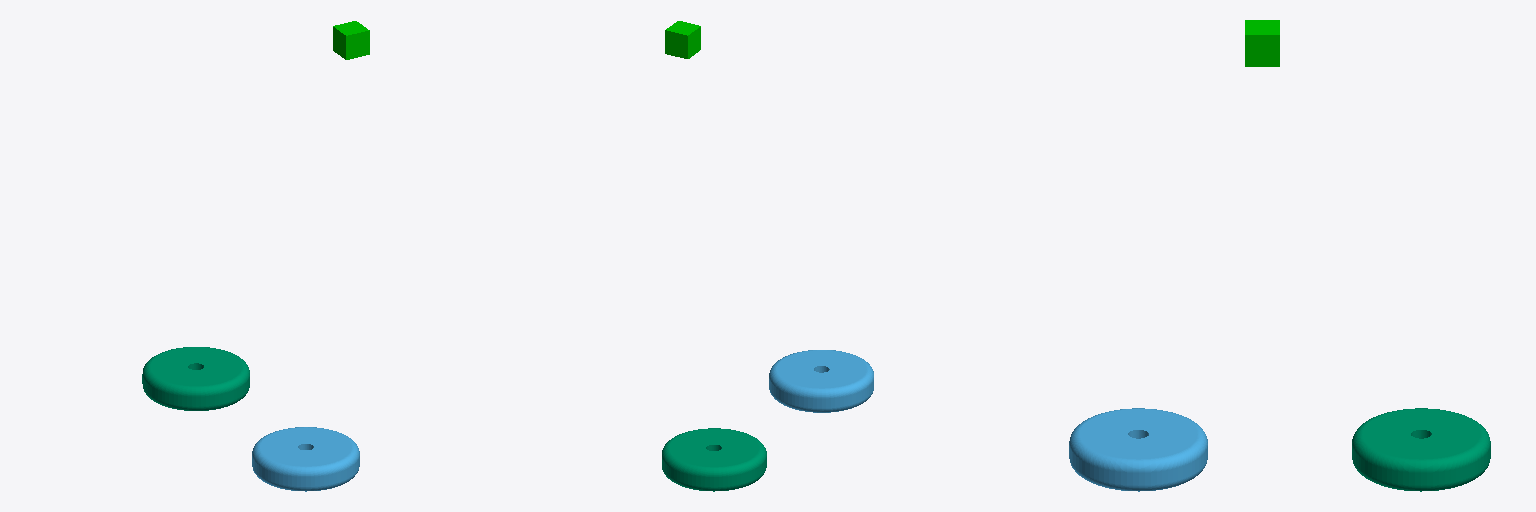
The robot description file, URDF, robot "myrobot":
<?xml version="1.0" ?>
<!-- =================================================================================== -->
<!-- |    This document was autogenerated by xacro from mybot.xacro                    | -->
<!-- |    EDITING THIS FILE BY HAND IS NOT RECOMMENDED                                 | -->
<!-- =================================================================================== -->
<robot name="myrobot">
  <gazebo>
    <plugin filename="libgazebo_ros_diff_drive.so" name="differential_drive_controller">
      <legacyMode>false</legacyMode>
      <alwaysOn>true</alwaysOn>
      <updateRate>10</updateRate>
      <leftJoint>left_wheel_hinge</leftJoint>
      <rightJoint>right_wheel_hinge</rightJoint>
      <wheelSeparation>0.4</wheelSeparation>
      <wheelDiameter>0.2</wheelDiameter>
      <torque>10000</torque>
      <commandTopic>cmd_vel</commandTopic>
      <odometryTopic>odom</odometryTopic>
      <odometryFrame>odom</odometryFrame>
      <robotBaseFrame>chassis</robotBaseFrame>
      <rosDebugLevel>na</rosDebugLevel>
      <publishWheelTF>false</publishWheelTF>
      <publishOdomTF>true</publishOdomTF>
      <publishWheelJointState>false</publishWheelJointState>
      <wheelAcceleration>0</wheelAcceleration>
      <wheelTorque>5</wheelTorque>
      <odometrySource>world</odometrySource>
      <publishTf>1</publishTf>
    </plugin>
  </gazebo>
  <gazebo reference="chassis">
    <material>Gazebo/Orange</material>
  </gazebo>
  <gazebo reference="right_wheel">
    <material>Gazebo/FlatBlack</material>
  </gazebo>
  <gazebo reference="left_wheel">
    <material>Gazebo/FlatBlack</material>
  </gazebo>
  <gazebo reference="camera">
    <material>Gazebo/Green</material>
    <sensor name="camera1" type="camera">
      <update_rate>30.0</update_rate>
      <camera name="head">
        <horizontal_fov>1.3962634</horizontal_fov>
        <image>
          <width>800</width>
          <height>800</height>
          <format>R8G8B8</format>
        </image>
        <clip>
          <near>0.02</near>
          <far>300</far>
        </clip>
      </camera>
      <plugin filename="libgazebo_ros_camera.so" name="camera_controller">
        <alwaysOn>true</alwaysOn>
        <updateRate>0.0</updateRate>
        <cameraName>mybot/camera1</cameraName>
        <imageTopicName>image_raw</imageTopicName>
        <cameraInfoTopicName>camera_info</cameraInfoTopicName>
        <frameName>camera</frameName>
        <hackBaseline>0.07</hackBaseline>
        <distortionK1>0.0</distortionK1>
        <distortionK2>0.0</distortionK2>
        <distortionK3>0.0</distortionK3>
        <distortionT1>0.0</distortionT1>
        <distortionT2>0.0</distortionT2>
      </plugin>
    </sensor>
  </gazebo>
  <!-- hokuyo -->
  <gazebo reference="hokuyo">
    <sensor name="head_hokuyo_sensor" type="gpu_ray">
      <pose>0 0 0 0 0 0</pose>
      <visualize>true</visualize>
      <update_rate>40</update_rate>
      <ray>
        <scan>
          <horizontal>
            <samples>720</samples>
            <resolution>1</resolution>
            <min_angle>-1.570796</min_angle>
            <max_angle>1.570796</max_angle>
          </horizontal>
        </scan>
        <range>
          <min>0.10</min>
          <max>30.0</max>
          <resolution>0.01</resolution>
        </range>
        <noise>
          <type>gaussian</type>
          <!-- Noise parameters based on published spec for Hokuyo laser
               achieving "+-30mm" accuracy at range < 10m.  A mean of 0.0m and
               stddev of 0.01m will put 99.7% of samples within 0.03m of the true
               reading. -->
          <mean>0.0</mean>
          <stddev>0.01</stddev>
        </noise>
      </ray>
      <plugin filename="libgazebo_ros_gpu_laser.so" name="gazebo_ros_head_hokuyo_controller">
        <topicName>/mybot/laser/scan</topicName>
        <frameName>hokuyo</frameName>
      </plugin>
    </sensor>
  </gazebo>
  <material name="black">
    <color rgba="0.0 0.0 0.0 1.0"/>
  </material>
  <material name="blue">
    <color rgba="0.0 0.0 0.8 1.0"/>
  </material>
  <material name="green">
    <color rgba="0.0 0.8 0.0 1.0"/>
  </material>
  <material name="grey">
    <color rgba="0.2 0.2 0.2 1.0"/>
  </material>
  <material name="orange">
    <color rgba="1.0 0.4235294117647059 0.0392156862745098 1.0"/>
  </material>
  <material name="brown">
    <color rgba="0.8705882352941177 0.8117647058823529 0.7647058823529411 1.0"/>
  </material>
  <material name="red">
    <color rgba="0.8 0.0 0.0 1.0"/>
  </material>
  <material name="white">
    <color rgba="1.0 1.0 1.0 1.0"/>
  </material>
  <!--macro name="cylinder_inertia" params="m r h">
    <inertia  ixx="${m*(3*r*r+h*h)/12}" ixy = "0" ixz = "0"
      iyy="${m*(3*r*r+h*h)/12}" iyz = "0"
      izz="${m*r*r/2}"
    />
  </macro>
  <macro name="box_inertia" params="m x y z">
    <inertia  ixx="${m*(y*y+z*z)/12}" ixy = "0" ixz = "0"
      iyy="${m*(x*x+z*z)/12}" iyz = "0"
      izz="${m*(x*x+z*z)/12}"
    />
  </macro>
  <macro name="sphere_inertia" params="m r">
    <inertia  ixx="${2*m*r*r/5}" ixy = "0" ixz = "0"
      iyy="${2*m*r*r/5}" iyz = "0"
      izz="${2*m*r*r/5}"
    />
  </macro>
  <macro name="wheel" params="lr tY">
    <link name="${lr}_wheel">
      <collision>
        <origin xyz="0 0 0" rpy="0 ${PI/2} ${PI/2}" />
        <geometry>
          <cylinder length="${wheelWidth}" radius="${wheelRadius}"/>
        </geometry>
      </collision>
      <visual>
        <origin xyz="0 0 0" rpy="0 ${PI/2} ${PI/2}" />
        <geometry>
          <cylinder length="${wheelWidth}" radius="${wheelRadius}"/>
        </geometry>
        <material name="black"/>
      </visual>
      <inertial>
        <origin xyz="0 0 0" rpy="0 ${PI/2} ${PI/2}" />
        <mass value="${wheelMass}"/>
        <cylinder_inertia m="${wheelMass}" r="${wheelRadius}" h="${wheelWidth}"/>
      </inertial>
    </link>
    <gazebo reference="${lr}_wheel">
      <mu1 value="1.0"/>
      <mu2 value="1.0"/>
      <kp  value="10000000.0" />
      <kd  value="1.0" />
      <fdir1 value="1 0 0"/>
      <material>Gazebo/Black</material>
    </gazebo>
    <joint name="${lr}_wheel_hinge" type="continuous">
      <parent link="chassis"/>
      <child link="${lr}_wheel"/>
    <origin xyz="${-wheelPos+chassisLength/2} ${tY*wheelWidth/2+tY*chassisWidth/2} ${wheelRadius}" rpy="0 0 0" />
      <axis xyz="0 1 0" rpy="0 0 0" />
      <limit effort="10000" velocity="10000"/>
      <joint_properties damping="0.0" friction="0.0"/>
    </joint>
    <transmission name="${lr}_trans">
      <type>transmission_interface/SimpleTransmission</type>
      <joint name="${lr}_wheel_hinge">
        <hardwareInterface>EffortJointInterface</hardwareInterface>
      </joint>
      <actuator name="${lr}Motor">
        <hardwareInterface>EffortJointInterface</hardwareInterface>
        <mechanicalReduction>10</mechanicalReduction>
      </actuator>
    </transmission>
  </macro-->
  <link name="chassis">
    <pose>0 0 0.1 0 0 0</pose>
    <inertial>
      <mass value="15.0"/>
      <origin rpy=" 0 0 0" xyz="0.0 0 0"/>
      <inertia ixx="0.1" ixy="0" ixz="0" iyy="0.1" iyz="0" izz="0.1"/>
    </inertial>
    <collision name="collision">
      <geometry>
        <mesh filename="package://diff_drive_bot/meshes/base_supporti.stl"/>
        <!-- <box size=".4 .2 .1"/> -->
      </geometry>
    </collision>
    <visual name="chassis_visual">
      <origin rpy=" 0 0 0" xyz="0 0 0"/>
      <geometry>
        <mesh filename="package://diff_drive_bot/meshes/base_supporti.stl"/>
        <!-- <box size=".4 .2 .1"/> -->
      </geometry>
    </visual>
  </link>
  <link name="left_wheel">
    <!--origin xyz="0.1 0.13 0.1" rpy="0 1.5707 1.5707"/-->
    <collision name="collision">
      <origin rpy="-1.5708 -0 0" xyz="0 0 0.025"/>
      <geometry>
        <mesh filename="package://diff_drive_bot/meshes/wheel.stl"/>
        <!-- <cylinder radius="0.1" length="0.05"/> -->
      </geometry>
    </collision>
    <visual name="left_wheel_visual">
      <origin rpy="-1.5708 -0 0" xyz="0 0 0.025"/>
      <geometry>
        <mesh filename="package://diff_drive_bot/meshes/wheel.stl"/>
        <!-- <cylinder radius="0.1" length="0.05"/> -->
      </geometry>
    </visual>
    <inertial>
      <origin rpy="0 0 0" xyz="-2.18305e-18 5.73556e-20 -6.93889e-18"/>
      <mass value="5"/>
      <inertia ixx=".1" ixy="0.0" ixz="0.0" iyy=".1" iyz="0.0" izz=".1"/>
    </inertial>
  </link>
  <joint name="left_wheel_hinge" type="continuous">
    <origin rpy="-1.5708 -0 1.28103e-16" xyz="-0.000196272 -0.203923 0.035"/>
    <!--origin xyz="0.1 0.13 0" rpy="0 1.5707 1.5707"/-->
    <child link="left_wheel"/>
    <parent link="chassis"/>
    <axis rpy="0 0 0" xyz="0 0 1"/>
    <limit effort="10000" velocity="1000"/>
    <joint_properties damping="1.0" friction="1.0"/>
  </joint>
  <link name="right_wheel">
    <!--origin xyz="0.1 -0.13 0.1" rpy="0 1.5707 1.5707"/-->
    <collision name="collision">
      <origin rpy="-1.5708 -0 0" xyz="0 0 0.025"/>
      <geometry>
        <mesh filename="package://diff_drive_bot/meshes/wheel.stl"/>
        <!-- <cylinder radius="0.1" length="0.05"/> -->
      </geometry>
    </collision>
    <visual name="right_wheel_visual">
      <origin rpy="-1.5708 -0 0" xyz="0 0 0.025"/>
      <geometry>
        <!-- <cylinder radius="0.1" length="0.05"/> -->
        <mesh filename="package://diff_drive_bot/meshes/wheel.stl"/>
      </geometry>
    </visual>
    <inertial>
      <origin rpy="0 1.5707 1.5707" xyz="0 0 0"/>
      <mass value="5"/>
      <inertia ixx=".1" ixy="0.0" ixz="0.0" iyy=".1" iyz="0.0" izz=".1"/>
    </inertial>
  </link>
  <joint name="right_wheel_hinge" type="continuous">
    <origin rpy="-1.5708 -0 1.28103e-16" xyz="-0.000196272 0.203923 0.035"/>
    <!--origin xyz="0.1 -0.13 0" rpy="0 1.5707 1.5707"/-->
    <child link="right_wheel"/>
    <parent link="chassis"/>
    <axis rpy="0 0 0" xyz="0 0 1"/>
    <limit effort="10000" velocity="1000"/>
    <joint_properties damping="1.0" friction="1.0"/>
  </joint>
  <!-- ************************************************************************** -->
  <link name="camera">
    <collision>
      <origin rpy="0 0 0" xyz="0 0 0"/>
      <geometry>
        <box size="0.05 0.05 0.05"/>
      </geometry>
    </collision>
    <visual>
      <origin rpy="0 0 0" xyz="0 0 0"/>
      <geometry>
        <box size="0.05 0.05 0.05"/>
      </geometry>
      <material name="green"/>
    </visual>
    <inertial>
      <mass value="0.1"/>
      <origin rpy="0 0 0" xyz="0 0 0"/>
      <box_inertia m="0.1" x="0.05" y="0.05" z="0.05"/>
      <inertia ixx="1e-6" ixy="0" ixz="0" iyy="1e-6" iyz="0" izz="1e-6"/>
    </inertial>
  </link>
  <joint name="camera_joint" type="fixed">
    <axis xyz="0 1 0"/>
    <origin rpy="0 0 0" xyz=".2 0 0.75"/>
    <parent link="chassis"/>
    <child link="camera"/>
  </joint>
  <joint name="hokuyo_joint" type="fixed">
    <axis xyz="0 1 0"/>
    <origin rpy="0 0 0" xyz=".15 0 0.75"/>
    <parent link="chassis"/>
    <child link="hokuyo"/>
  </joint>
  <!-- Hokuyo Laser -->
  <link name="hokuyo">
    <collision>
      <origin rpy="0 0 0" xyz="0 0 0.5"/>
      <geometry>
        <box size="0.1 0.1 0.1"/>
      </geometry>
    </collision>
    <visual>
      <origin rpy="0 0 0" xyz="0 0 0.5"/>
      <geometry>
        <mesh filename="package://diff_drive_bot/meshes/hokuyo.dae"/>
      </geometry>
    </visual>
    <inertial>
      <mass value="1e-5"/>
      <origin rpy="0 0 0" xyz="0 0 0.5"/>
      <inertia ixx="1e-6" ixy="0" ixz="0" iyy="1e-6" iyz="0" izz="1e-6"/>
    </inertial>
  </link>
</robot>

--- Render facts (derived) ---
Views: 3 orthographic renders of the robot side by side, from view 1: azimuth 30°, elevation 25°; view 2: azimuth 150°, elevation 25°; view 3: azimuth 270°, elevation 25°.
Model myrobot with 5 links and 4 joints (2 continuous, 2 fixed), rooted at chassis, posed all joints at 0.
Visible links, largest first — view 1: left_wheel, right_wheel, camera; view 2: left_wheel, right_wheel, camera; view 3: left_wheel, right_wheel, camera.
Boxes of the visible links, x1=… form: left_wheel: x1=252, y1=427, x2=359, y2=491; right_wheel: x1=142, y1=347, x2=249, y2=410; camera: x1=333, y1=21, x2=369, y2=59; left_wheel: x1=769, y1=350, x2=873, y2=412; right_wheel: x1=662, y1=428, x2=766, y2=491; camera: x1=665, y1=21, x2=700, y2=58; left_wheel: x1=1069, y1=408, x2=1207, y2=491; right_wheel: x1=1352, y1=408, x2=1490, y2=491; camera: x1=1245, y1=20, x2=1279, y2=66.
Bounding box of the posed robot: 0.3252 × 0.6078 × 0.79 m (x, y, z).
Meshes: 3 distinct files referenced, 2 mesh visuals loaded (1 binary STL); not drawn: 2 (reference not matched to a file when rendering).
